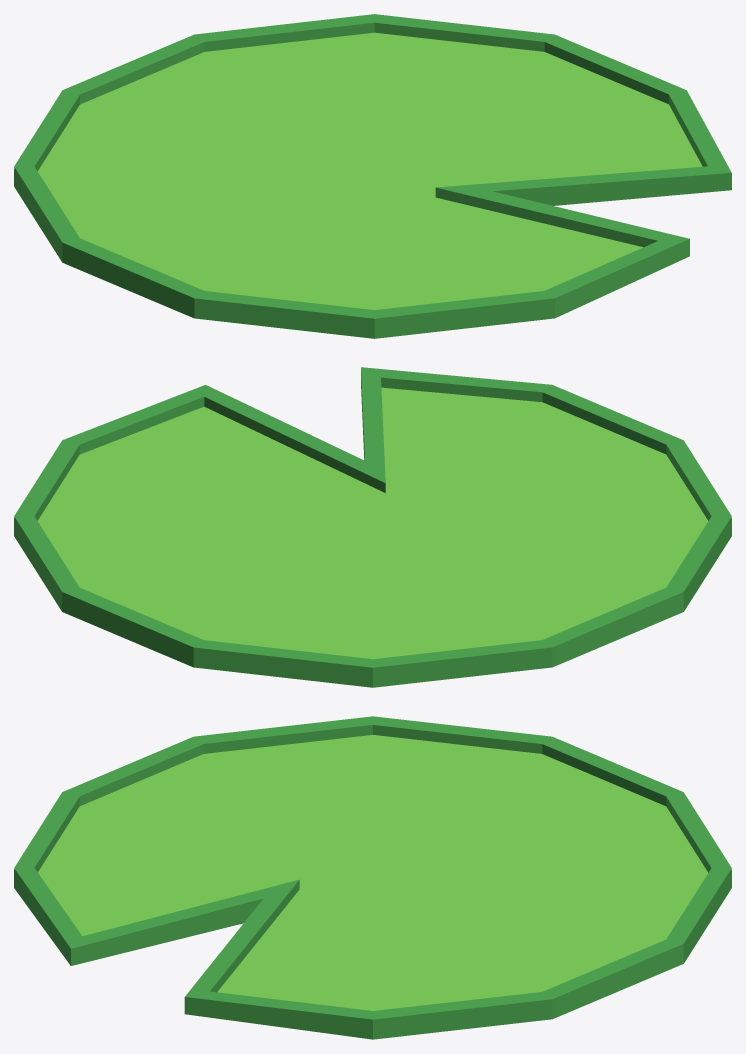
The model's file is LILYPAD.fbx.
3 renders of one model, top to bottom at view 1: azimuth 30°, elevation 25°; view 2: azimuth 150°, elevation 25°; view 3: azimuth 270°, elevation 25°, orthographic.
Parts seen in each view (by area): view 1: Circle; view 2: Circle; view 3: Circle.
Part boxes in pixels (left/top/right/bottom): Circle: left=14, top=14, right=731, bottom=338; Circle: left=14, top=367, right=731, bottom=687; Circle: left=14, top=716, right=731, bottom=1039.
Bounding box in the file's own units: 492 × 15.12 × 492.
